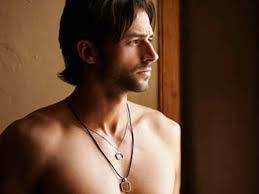Indian_Male: (76, 12, 164, 96)
